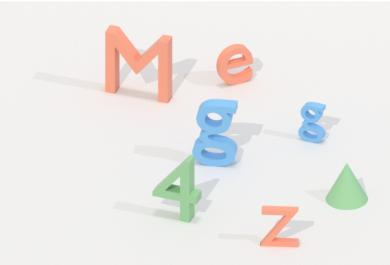0-TamGiac: (321, 160, 370, 215)
4: (147, 151, 204, 226)
M: (99, 22, 178, 108)
Z: (257, 202, 304, 252)
e: (212, 40, 256, 89)
g: (191, 94, 240, 171), (296, 98, 329, 146)
